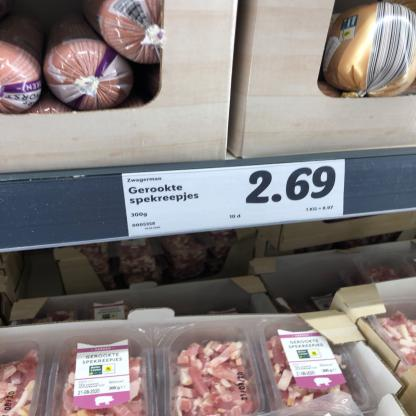prtg: (122, 160, 346, 238)
